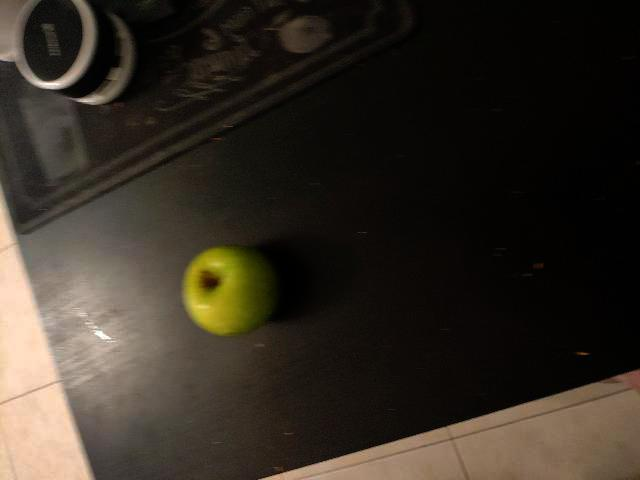apple: (136, 173, 238, 288)
